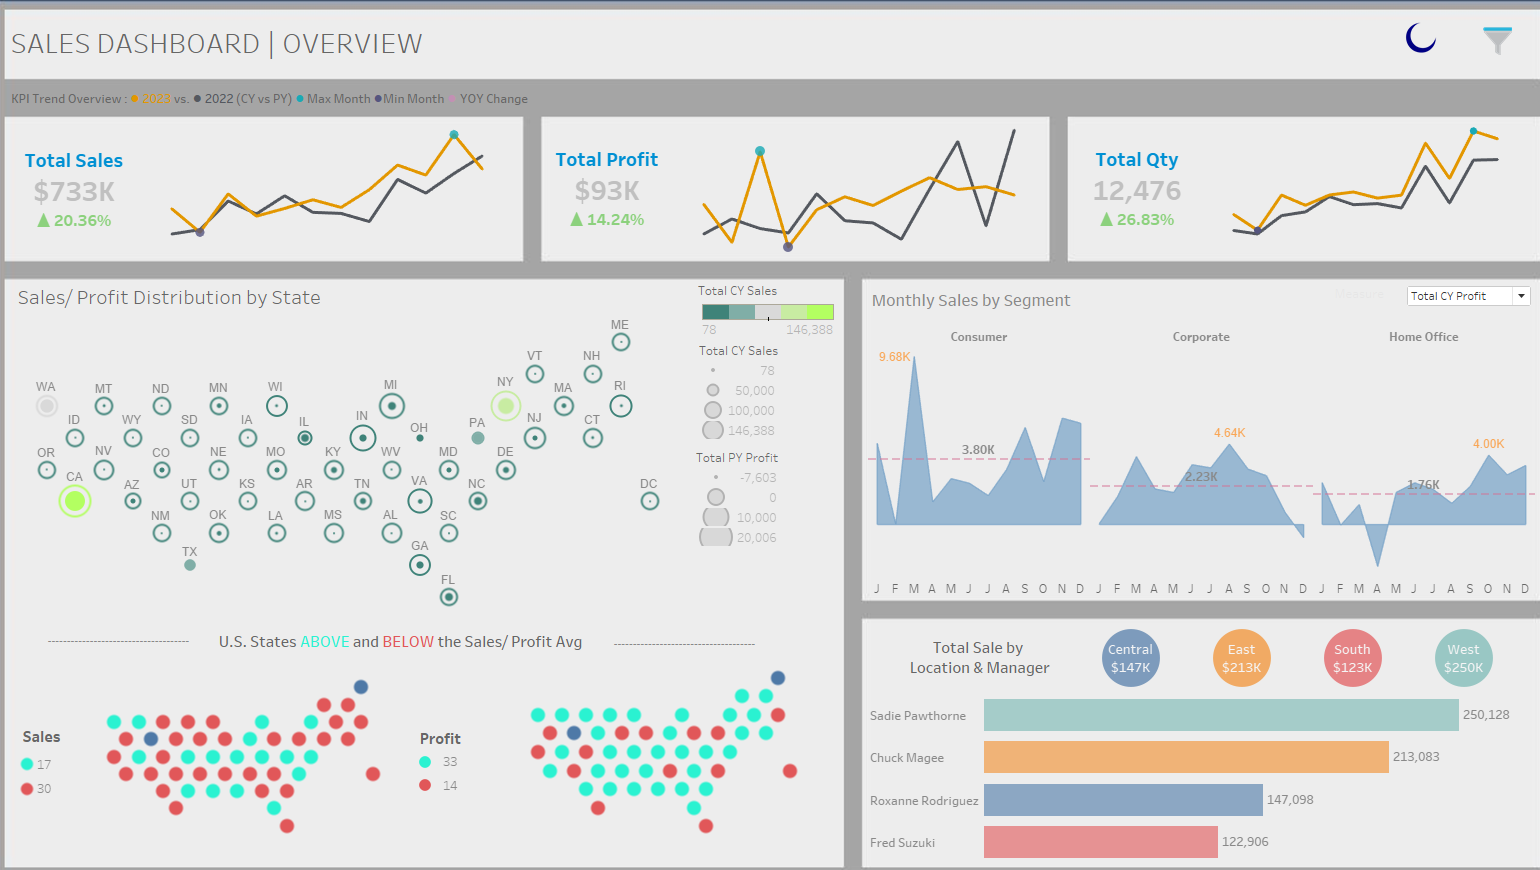

What the dashboard file says about the page in this screenshot:
{"tool":"tableau","page":{"name":"Light Sales Dashboard ","canvas":[1600,900],"ordinal":1},"visuals":[{"type":"image","param":"C:/Users/Seth/Downloads/Sales Dashboard Background.pptx (1).jpg","box":[8,8,1584,884]},{"type":"text","box":[34,24,590,60]},{"type":"dashboard-object","box":[1410,30,73,38]},{"type":"dashboard-object","box":[1508,39,30,28]},{"type":"filter","title":"Sales/Profit by State","param":"[federated.0ki7qsz12wxfyk1730o4k0y72imt].[none:Category:nk]","box":[1306,57,202,52]},{"type":"text","box":[32,99,523,20]},{"type":"filter","title":"Sales/Profit by State","param":"[federated.0ki7qsz12wxfyk1730o4k0y72imt].[none:Region:nk]","box":[1306,109,202,52]},{"type":"worksheet","title":"Profit KPI","mark":"Automatic","box":[569,130,128,139]},{"type":"worksheet","title":"Profit Sparkline ","mark":"Line","rows":["min max month (sales) (copy)_1448470258024054800"],"cols":["Order Date"],"box":[697,130,375,139]},{"type":"worksheet","title":"Qty KPI","mark":"Automatic","box":[1094,130,137,140]},{"type":"worksheet","title":"Qty Sparkline ","mark":"Line","rows":["min max month (profit) (copy)_1448470258029834257"],"cols":["Order Date"],"box":[1231,130,320,140]},{"type":"worksheet","title":"Sales KPI","mark":"Automatic","box":[35,133,130,135]},{"type":"worksheet","title":"Sales Sparkline","mark":"Automatic","rows":["Calculation_1448470257656348687"],"cols":["Order Date"],"box":[165,133,375,135]},{"type":"filter","title":"Sales/Profit by State","param":"[federated.0ki7qsz12wxfyk1730o4k0y72imt].[none:Ship Mode:nk]","box":[1306,161,202,52]},{"type":"text","box":[41,294,309,30]},{"type":"legend","title":"Sales/Profit by State","param":"[federated.0ki7qsz12wxfyk1730o4k0y72imt].[sum:Calculation_1448470257633869824:qk","box":[724,294,140,76]},{"type":"parameter","param":"[Parameters].[Parameter 1]","box":[1358,295,202,38]},{"type":"text","box":[895,297,205,30]},{"type":"worksheet","title":"Sales/Profit by State","mark":"Circle","rows":["Row"],"cols":["Column","Column"],"box":[32,322,683,319]},{"type":"worksheet","title":"Monthly Sales by Segment","mark":"Area","rows":["Calculation_1448470258654294041"],"cols":["Segment","Order Date"],"box":[894,338,667,272]},{"type":"legend","title":"Sales/Profit by State","param":"[federated.0ki7qsz12wxfyk1730o4k0y72imt].[sum:Calculation_1448470257633869824:qk","box":[725,354,140,98]},{"type":"legend","title":"Sales/Profit by State","param":"[federated.0ki7qsz12wxfyk1730o4k0y72imt].[sum:Total CY Profit (copy)_14484702576","box":[722,461,140,114]},{"type":"worksheet","title":"Regional Sales","mark":"Circle","cols":["Region"],"box":[1102,636,443,68]},{"type":"text","box":[71,637,147,30]},{"type":"text","box":[899,637,210,65]},{"type":"text","box":[242,638,411,30]},{"type":"text","box":[637,640,147,30]},{"type":"worksheet","title":"Avg Profit by State","mark":"Circle","rows":["Row"],"cols":["Column"],"box":[544,671,292,186]},{"type":"worksheet","title":"Avg Sale by State","mark":"Circle","rows":["Row"],"cols":["Column"],"box":[120,682,299,173]},{"type":"worksheet","title":"Total Sales by location and manager","mark":"Automatic","rows":["Country/Region","Regional Manager"],"cols":["Calculation_1448470257633869824"],"box":[890,706,674,169]},{"type":"text","box":[46,733,100,30]},{"type":"text","box":[443,735,100,30]},{"type":"worksheet","title":"State Profit Count","mark":"Circle","rows":["Sales Avg Color (copy)_1448470258440863767"],"box":[415,762,71,47]},{"type":"worksheet","title":"State Sales Count","mark":"Circle","rows":["Calculation_1448470258438344724"],"box":[26,764,54,49]}]}

Visuals, with their boxes in screenshot pixels (x1, y1, x2, y2), scaled from the page's 1600x900 canvas onto the 1540x870 screenshot:
image: bbox(8, 8, 1532, 862)
text: bbox(33, 23, 601, 81)
dashboard-object: bbox(1357, 29, 1427, 66)
dashboard-object: bbox(1451, 38, 1480, 65)
"Sales/Profit by State" filter: bbox(1257, 55, 1451, 105)
text: bbox(31, 96, 534, 115)
"Sales/Profit by State" filter: bbox(1257, 105, 1451, 156)
"Profit KPI" worksheet: bbox(548, 126, 671, 260)
"Profit Sparkline " worksheet (Line marks): bbox(671, 126, 1032, 260)
"Qty KPI" worksheet: bbox(1053, 126, 1185, 261)
"Qty Sparkline " worksheet (Line marks): bbox(1185, 126, 1493, 261)
"Sales KPI" worksheet: bbox(34, 129, 159, 259)
"Sales Sparkline" worksheet: bbox(159, 129, 520, 259)
"Sales/Profit by State" filter: bbox(1257, 156, 1451, 206)
text: bbox(39, 284, 337, 313)
"Sales/Profit by State" legend: bbox(697, 284, 832, 358)
parameter: bbox(1307, 285, 1502, 322)
text: bbox(861, 287, 1059, 316)
"Sales/Profit by State" worksheet (Circle marks): bbox(31, 311, 688, 620)
"Monthly Sales by Segment" worksheet (Area marks): bbox(860, 327, 1502, 590)
"Sales/Profit by State" legend: bbox(698, 342, 833, 437)
"Sales/Profit by State" legend: bbox(695, 446, 830, 556)
"Regional Sales" worksheet (Circle marks): bbox(1061, 615, 1487, 681)
text: bbox(68, 616, 210, 645)
text: bbox(865, 616, 1067, 679)
text: bbox(233, 617, 629, 646)
text: bbox(613, 619, 755, 648)
"Avg Profit by State" worksheet (Circle marks): bbox(524, 649, 805, 828)
"Avg Sale by State" worksheet (Circle marks): bbox(116, 659, 403, 826)
"Total Sales by location and manager" worksheet: bbox(857, 682, 1505, 846)
text: bbox(44, 709, 141, 738)
text: bbox(426, 710, 523, 740)
"State Profit Count" worksheet (Circle marks): bbox(399, 737, 468, 782)
"State Sales Count" worksheet (Circle marks): bbox(25, 739, 77, 786)
